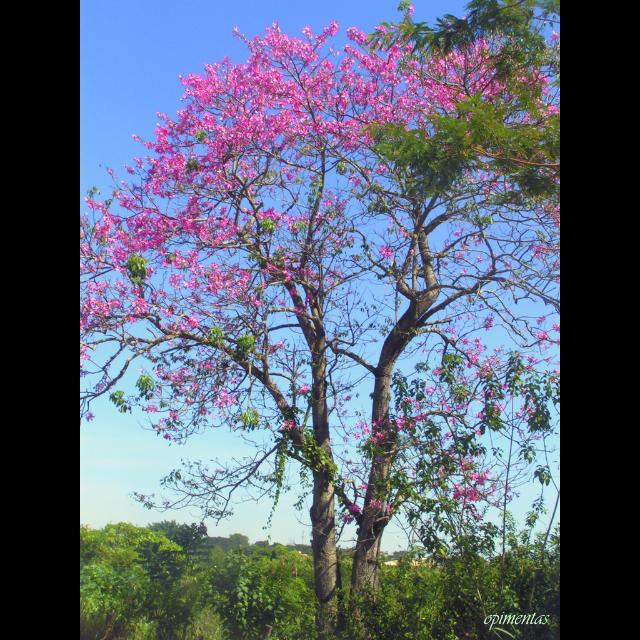Flower: (80, 10, 560, 522), (378, 246, 394, 260)
